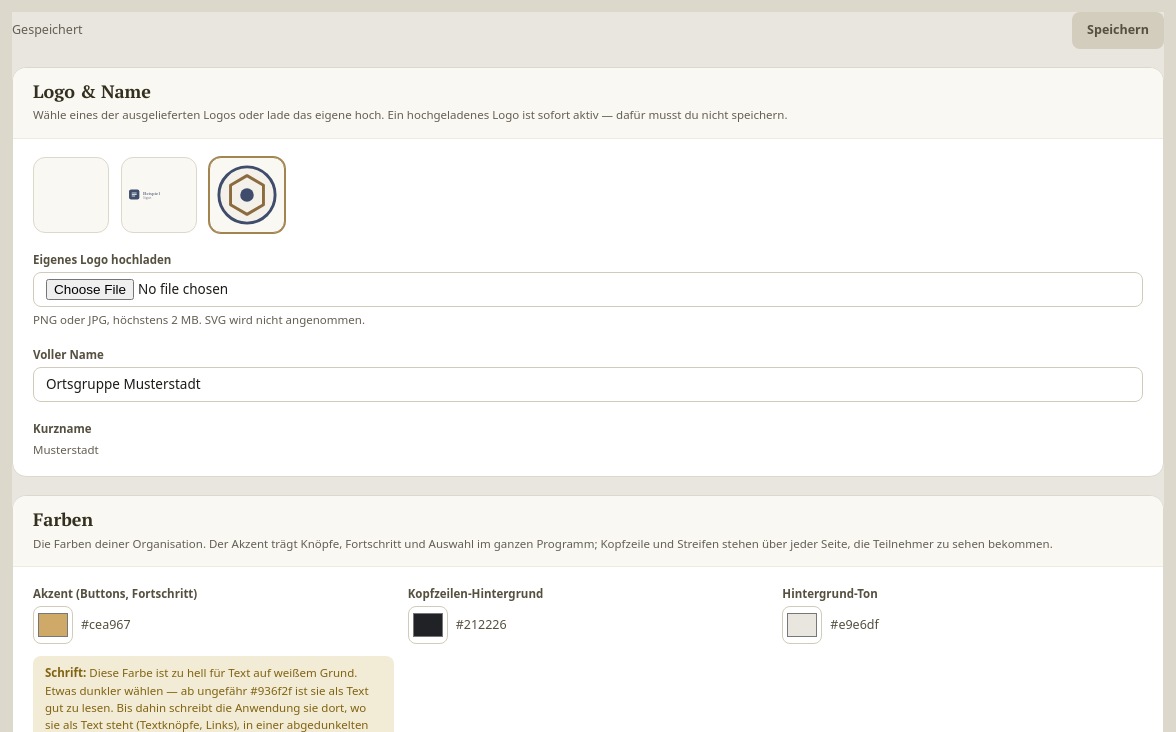
Scenario: Erscheinungsbild & Login › selecting another Logo tile changes the draft
This screenshot has width=1176, height=732.
Expected: the field labelled "Voller Name" is shown, [33, 367, 1143, 402]
Expected: the button "Speichern" is disabled, [1072, 12, 1164, 49]
Click the radio button named "Kein Logo" at {"x": 71, "y": 195}, box [33, 157, 109, 233]
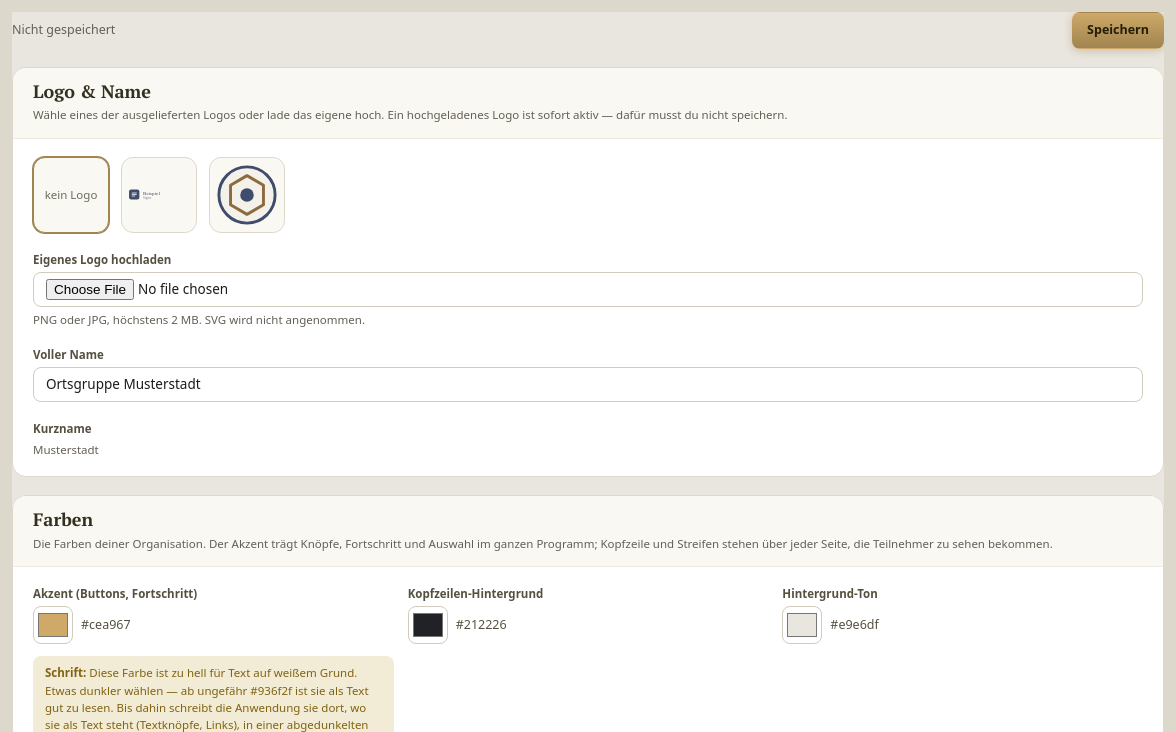
Result: the button "Speichern" is enabled at [1072, 12, 1164, 49]
